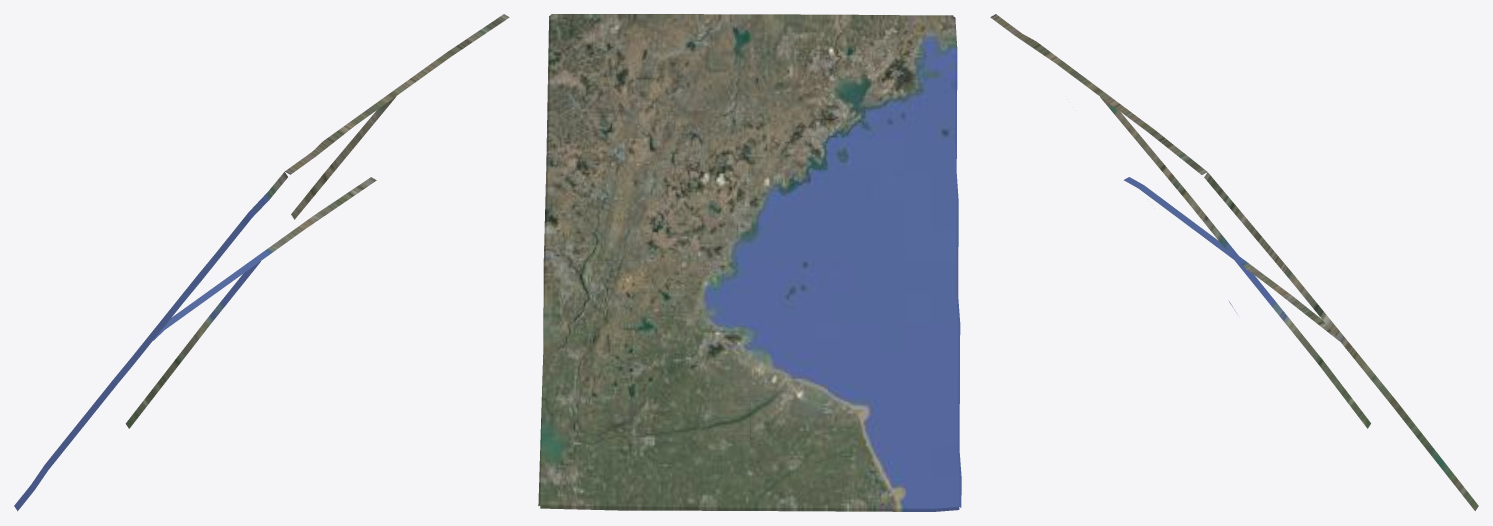
3 views of the same model, side by side, from view 1: azimuth 30°, elevation 25°; view 2: azimuth 150°, elevation 25°; view 3: azimuth 270°, elevation 25° (orthographic). The views are drawn at different scales.
Size of the model in its own units: 315112 by 260404 by 286625.
1 material, 1 textured.
